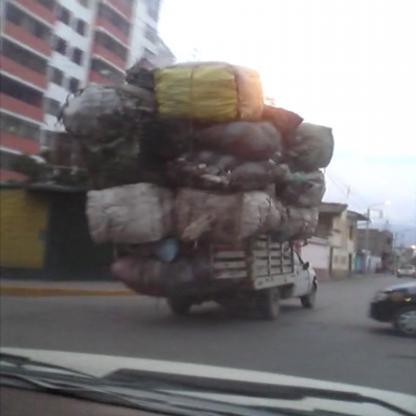overloaded-truck: (59, 52, 335, 324)
